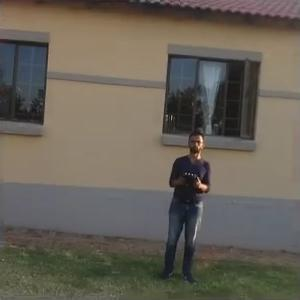follow: (158, 123, 215, 288)
